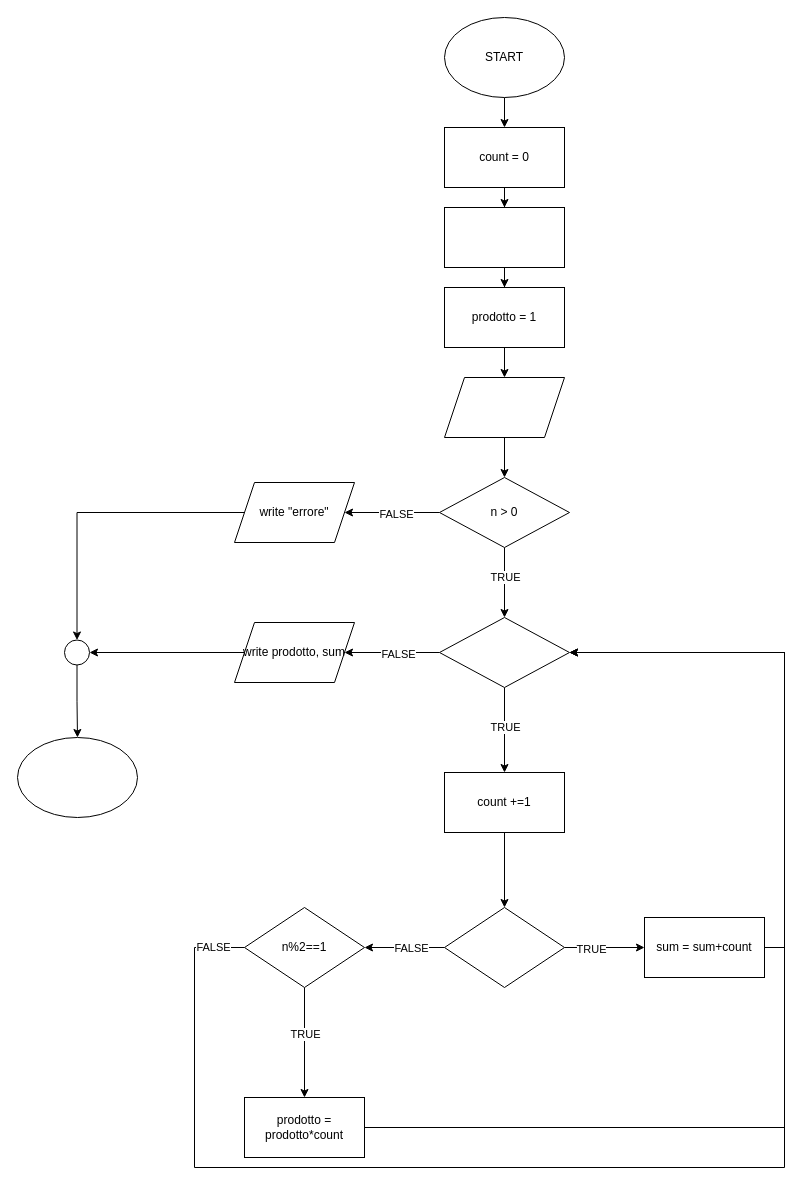
Image size: 810x1193. Some labels were removed from this diagram. Here are the shapes that lost their labels. From the top down, the centre of each, then its label:
(504,237): sum = 0
(504,407): read n
(504,652): count < n
(77,777): END
(504,947): n%4==0
